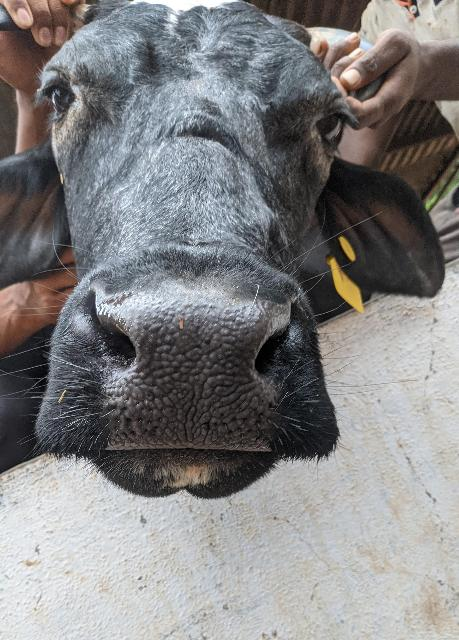Muzzle: (85, 292, 288, 460)
